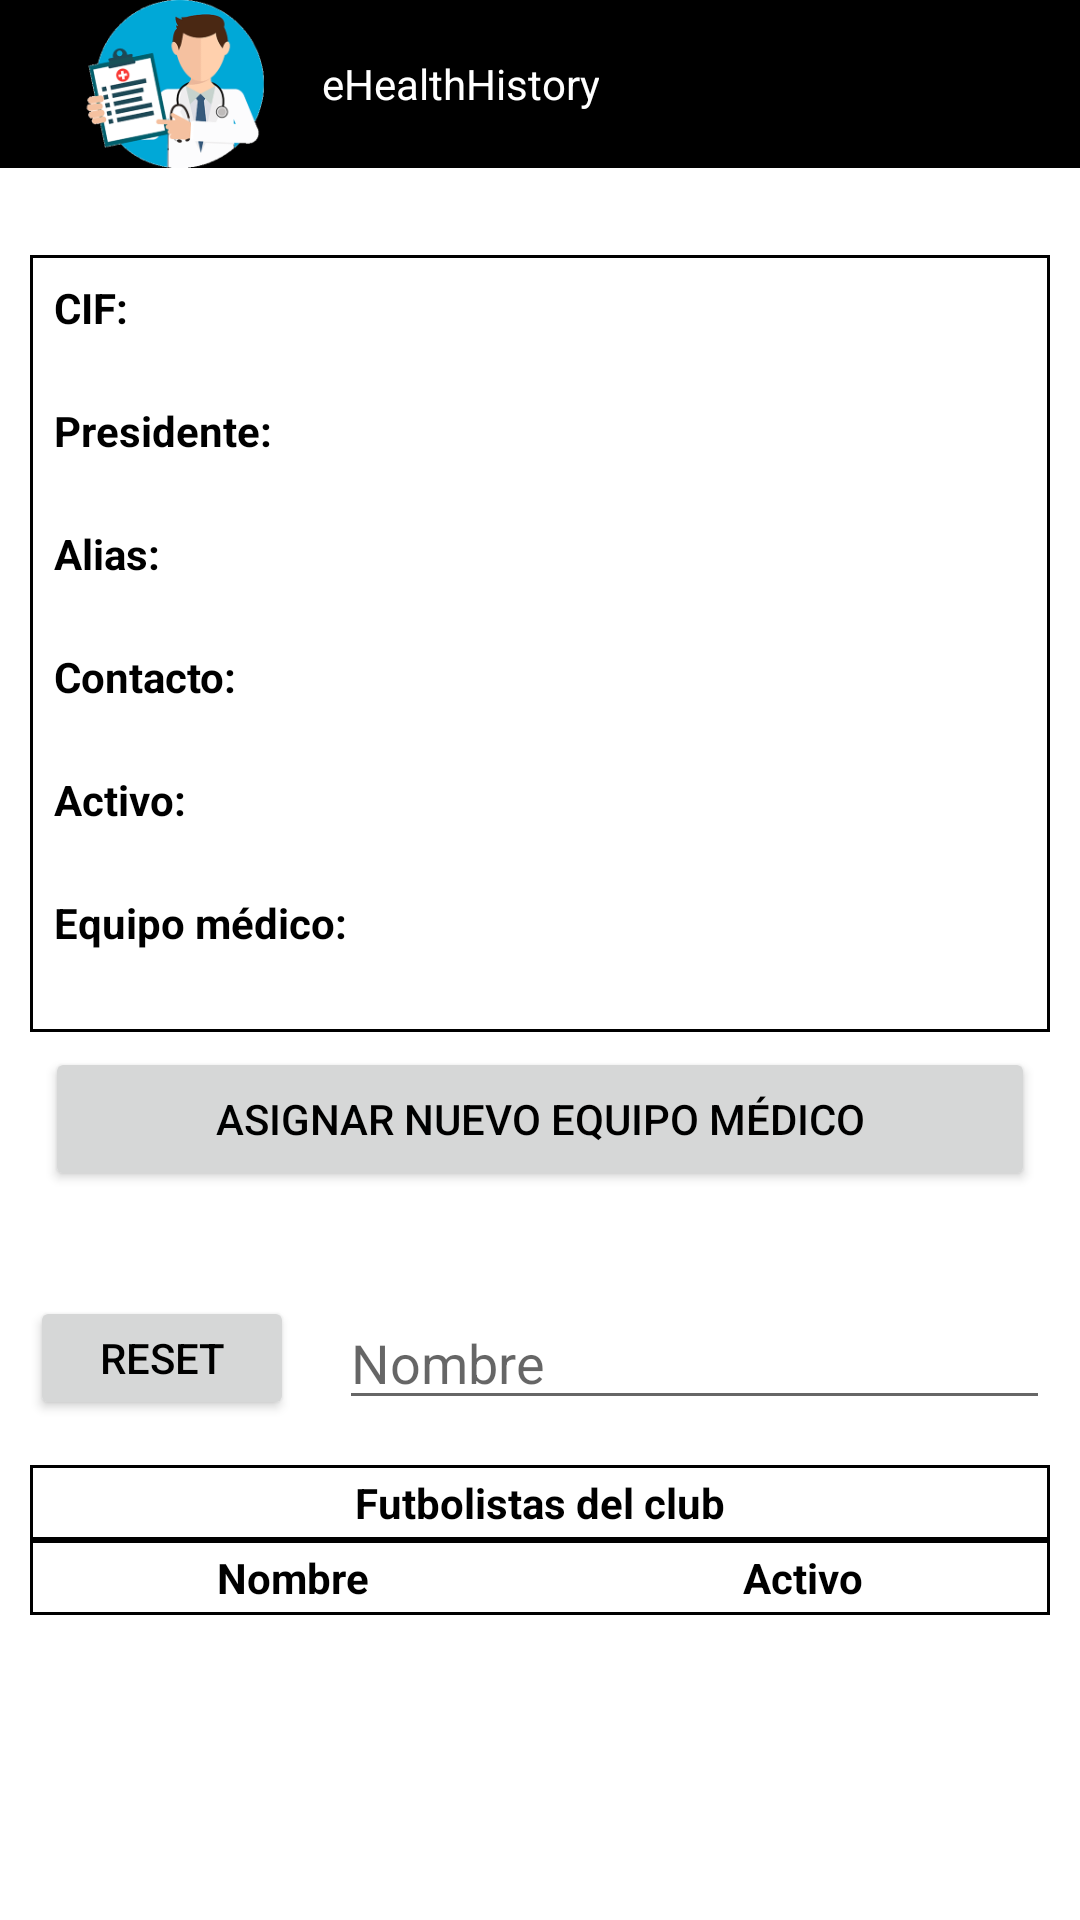

Named icons in this screenshot (1080px x 1920px) and their centers, (x,y):
Imagen de la aplicación: (175,84)
